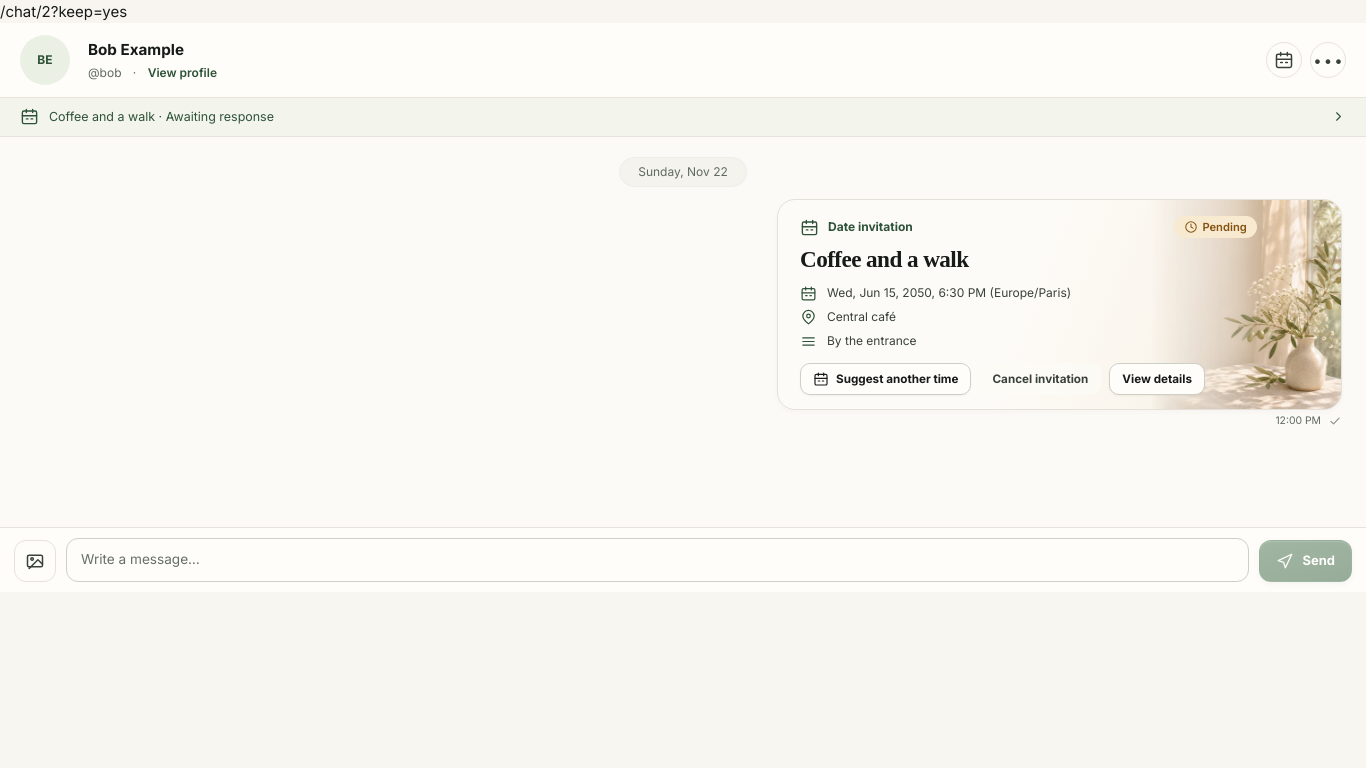
Test: date-message buttons open, close and reopen the planner (notification link: false)
Click the button "View details": {"x": 1157, "y": 379} [1109,363,1205,395]
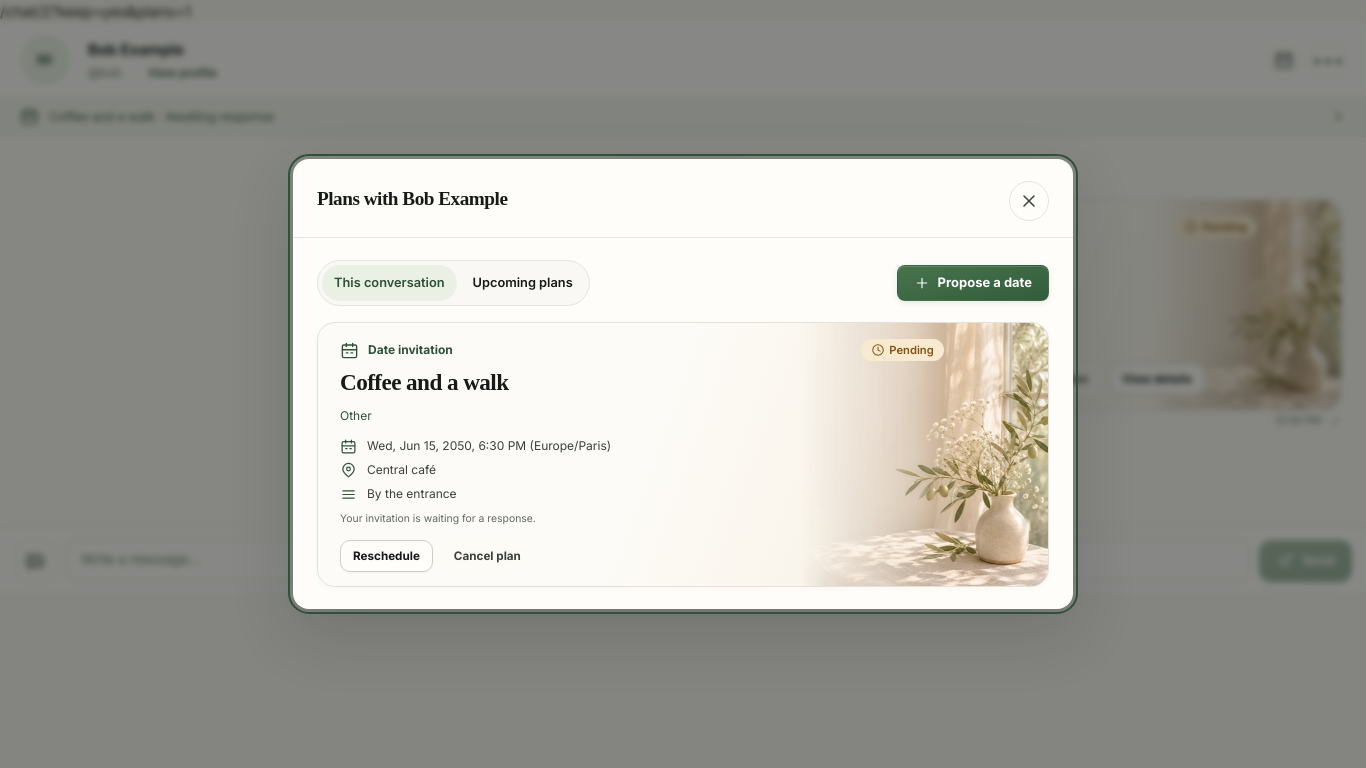
Check: the dialog "Plans with Bob Example" is shown, box [293,159,1073,609]
Check: the text "/chat/2?keep=yes&plans=1" is shown, box [0,2,191,21]
Click the button named "Close dialog": {"x": 1029, "y": 201} [1009,181,1049,221]
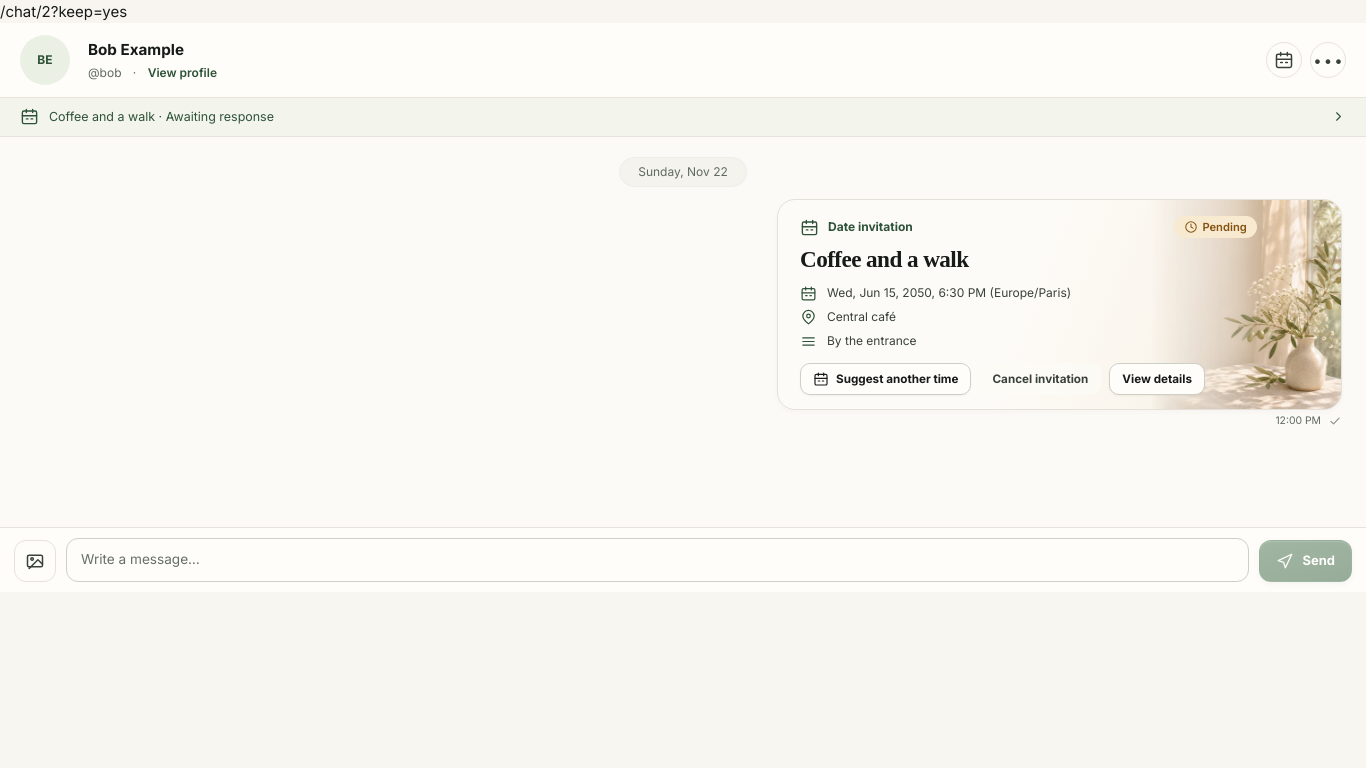
Check: the text "/chat/2?keep=yes" is shown, box [0,2,127,21]
Check: the dialog is gone
Click the button "View details": {"x": 1157, "y": 379} [1109,363,1205,395]
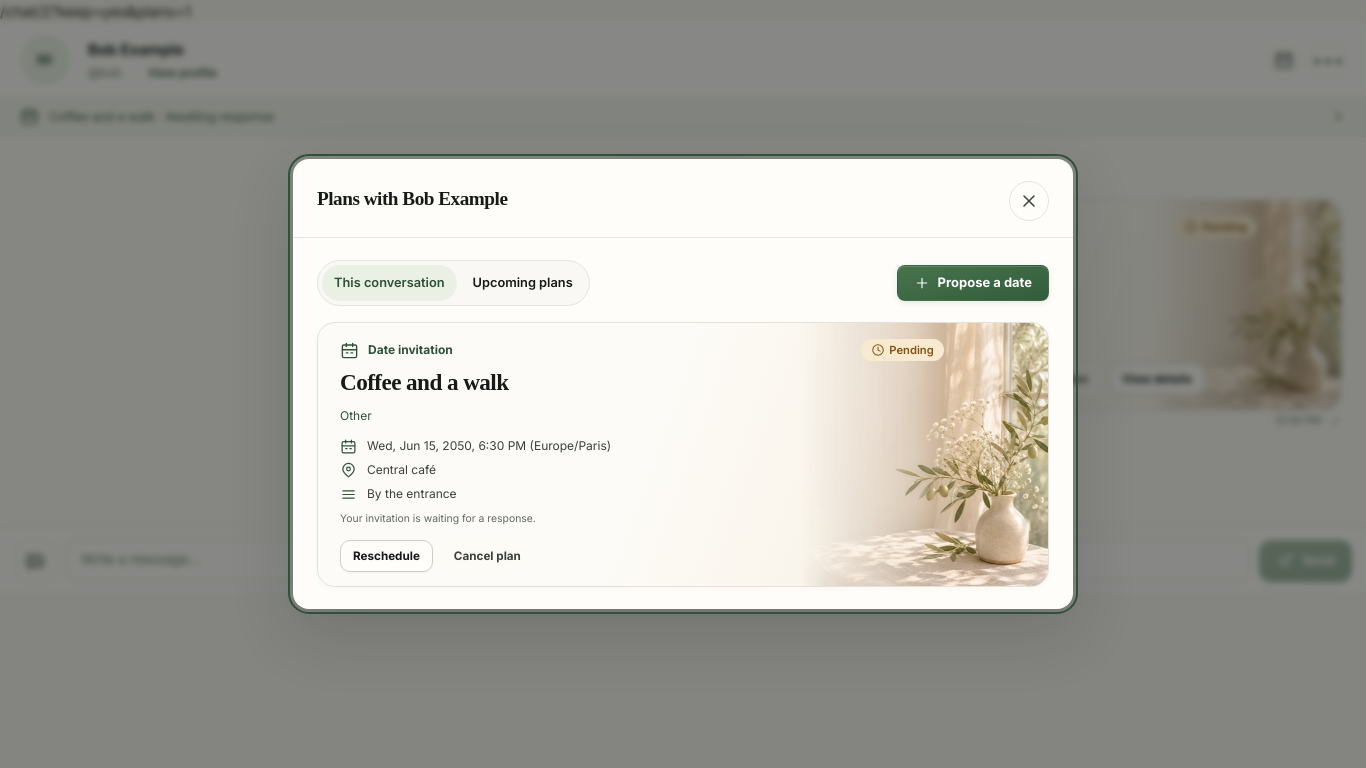
Check: the dialog "Plans with Bob Example" is shown, box [293,159,1073,609]
